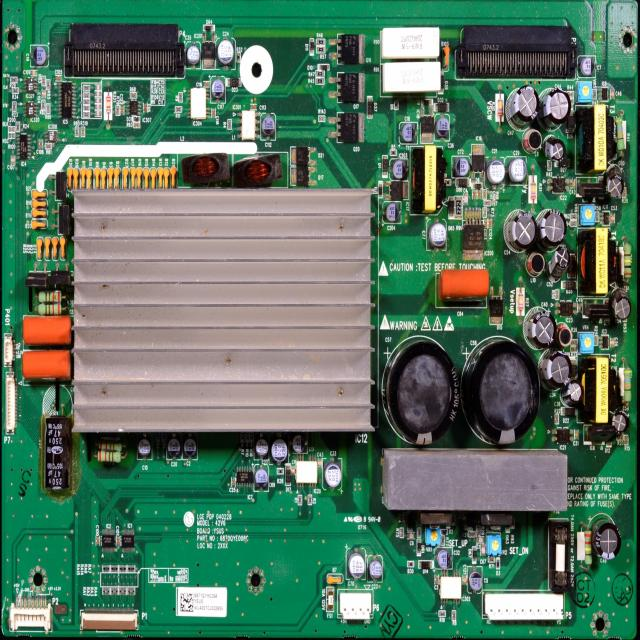Capacitor Jumper: (383, 336, 460, 446), (463, 338, 540, 444), (434, 268, 488, 310), (506, 86, 534, 130), (538, 87, 565, 132), (508, 210, 538, 250), (542, 351, 572, 386), (595, 520, 621, 560), (528, 313, 557, 347), (541, 210, 566, 245), (548, 246, 570, 281), (485, 157, 505, 193), (347, 548, 366, 582), (322, 460, 342, 492), (428, 218, 447, 251), (505, 157, 527, 185), (216, 39, 235, 70), (564, 379, 584, 404), (608, 167, 624, 197), (545, 139, 566, 161), (399, 122, 419, 145), (368, 550, 382, 582), (211, 76, 226, 104), (261, 112, 276, 140), (435, 114, 450, 142), (30, 44, 48, 67), (614, 289, 629, 316), (452, 155, 470, 177), (383, 201, 401, 223), (187, 42, 201, 70), (389, 160, 408, 180), (434, 548, 452, 569), (578, 56, 596, 77), (137, 436, 152, 461), (468, 566, 482, 592), (271, 440, 289, 460), (184, 435, 199, 458), (254, 466, 267, 492), (612, 413, 629, 432), (253, 438, 267, 460), (168, 438, 181, 460), (292, 433, 305, 452), (406, 530, 416, 539), (480, 545, 486, 557), (463, 192, 468, 206), (571, 178, 576, 190), (488, 218, 493, 229), (478, 187, 482, 200), (610, 336, 614, 348), (96, 534, 100, 546), (611, 212, 615, 224), (484, 218, 488, 230), (318, 457, 322, 468), (116, 535, 120, 546), (463, 575, 467, 586), (610, 88, 614, 99), (11, 154, 15, 165), (472, 189, 476, 200), (477, 538, 484, 544), (55, 75, 62, 81), (435, 574, 439, 584), (42, 89, 46, 99), (39, 139, 43, 149), (578, 303, 582, 313), (250, 105, 257, 110), (30, 71, 38, 75), (121, 106, 124, 115), (213, 109, 215, 118)
Connector: (64, 23, 186, 79), (455, 26, 576, 79), (484, 592, 566, 620), (10, 593, 51, 634), (79, 608, 138, 631), (337, 589, 374, 623), (6, 372, 17, 436), (5, 334, 13, 367)
IC: (464, 218, 484, 260), (439, 570, 462, 606), (58, 82, 76, 119), (236, 111, 258, 141), (188, 89, 209, 120), (236, 464, 253, 492), (385, 181, 409, 200), (472, 143, 484, 180), (202, 40, 215, 70), (546, 176, 569, 192), (420, 116, 433, 144), (551, 427, 573, 443), (555, 301, 577, 317), (122, 528, 135, 553), (18, 135, 30, 160), (102, 529, 115, 551), (126, 101, 143, 115), (24, 101, 38, 118), (24, 79, 36, 95), (600, 210, 611, 226), (599, 87, 609, 102), (600, 334, 608, 350), (46, 132, 58, 141)
Resistor Jumper: (380, 27, 440, 58), (382, 62, 440, 92), (621, 358, 634, 403), (616, 112, 627, 162), (622, 236, 633, 286), (35, 290, 68, 304), (584, 523, 593, 569), (95, 452, 126, 464), (95, 442, 125, 454), (34, 304, 70, 314), (530, 166, 537, 214), (517, 282, 524, 324), (104, 92, 112, 121), (496, 92, 503, 122), (454, 196, 462, 218), (316, 70, 324, 78), (318, 115, 326, 123), (440, 536, 446, 546), (482, 188, 487, 200), (130, 92, 138, 99), (227, 119, 232, 130), (316, 39, 325, 45), (316, 46, 325, 52), (554, 413, 559, 423), (622, 188, 627, 198), (316, 78, 324, 84), (12, 88, 20, 94), (548, 159, 552, 171), (452, 611, 457, 620), (594, 335, 598, 346), (308, 494, 312, 505), (298, 495, 302, 506), (46, 79, 50, 90), (617, 434, 624, 440), (488, 556, 495, 562), (570, 213, 577, 219), (570, 347, 578, 352), (476, 526, 480, 536), (400, 528, 404, 538), (10, 77, 18, 82), (12, 102, 16, 112), (116, 106, 120, 116), (132, 123, 140, 128), (75, 126, 79, 136), (80, 128, 84, 138), (8, 132, 16, 137), (595, 212, 599, 222), (571, 339, 577, 345), (469, 531, 475, 537), (568, 91, 574, 97), (592, 90, 596, 99), (41, 100, 45, 109), (556, 290, 560, 299), (175, 107, 182, 112), (484, 201, 491, 206), (17, 122, 20, 133), (625, 434, 628, 444), (439, 611, 445, 616), (179, 93, 182, 103), (483, 208, 486, 218), (9, 127, 16, 131), (42, 76, 45, 85), (47, 105, 50, 114), (570, 222, 576, 226), (418, 528, 420, 538)
Transistor: (332, 114, 366, 144), (333, 71, 364, 103), (332, 36, 365, 66), (49, 262, 72, 292), (24, 262, 48, 289), (49, 170, 66, 202), (53, 206, 71, 233)
